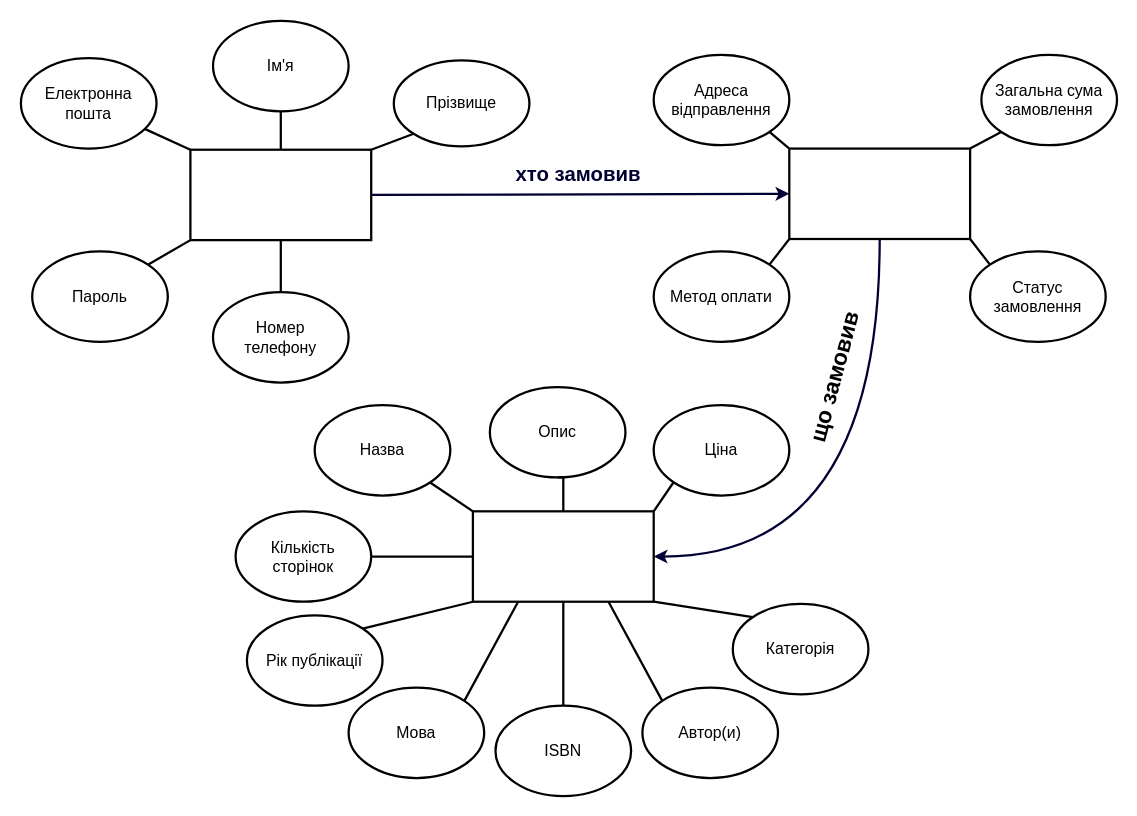
This 1137x816 diagram has some shape labels left out. The shapes that lost their labels are listed below. From the top down, each one's centre as x and y in pixels, then its label:
At [280,194]: "Користувач".
At [879,193]: "Замовлення".
At [562,556]: "Книга".
